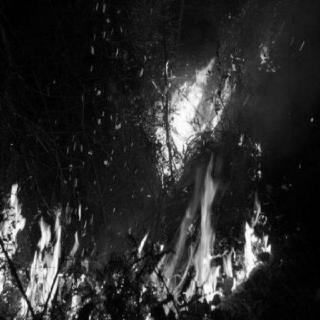Fire: (156, 161, 274, 300), (2, 180, 90, 318)
